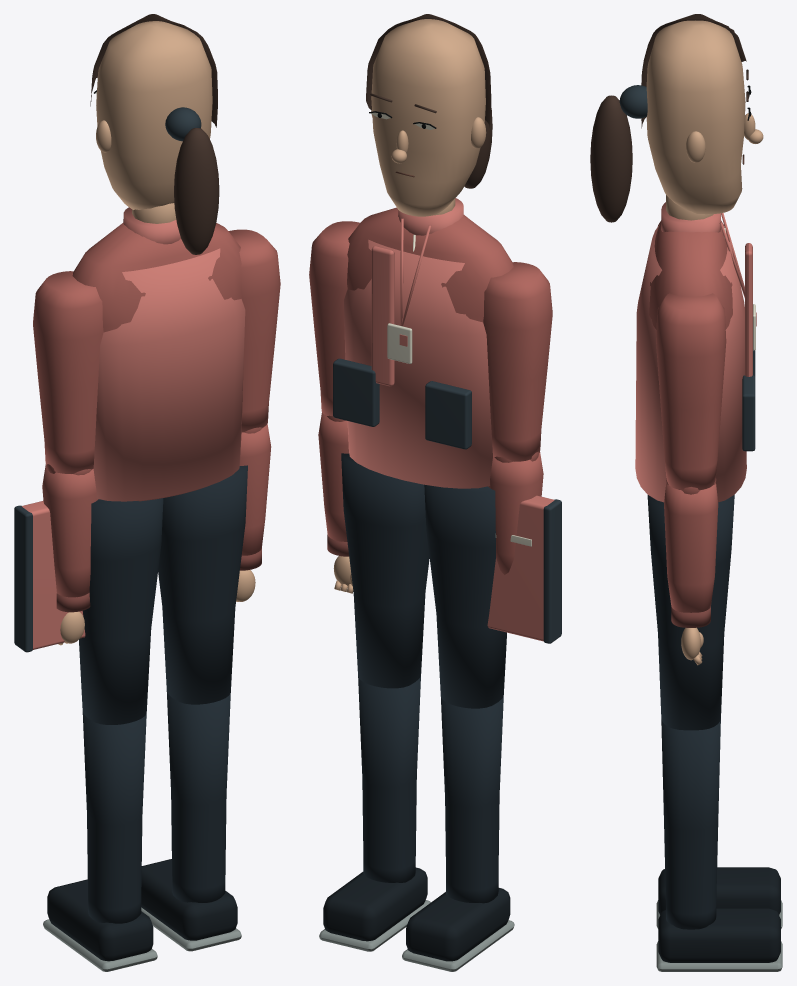
The model's file is npc_history.glb.
The picture shows the model from 3 angles, left to right: view 1: azimuth 30°, elevation 25°; view 2: azimuth 150°, elevation 25°; view 3: azimuth 270°, elevation 25°; orthographic projection.
Visible parts, largest first — view 1: IDPhoto, TrouserThigh.001, AdultFace, TrouserThigh, Sleeve, Knee.001, Knee, QuietClothTorso, Sleeve.001, Eyebrow, ElbowTransition, OrdinaryShoe (+9 smaller); view 2: IDPhoto, AdultFace, TrouserThigh.001, TrouserThigh, Sleeve, Knee.001, Knee, QuietClothTorso, UtilityPocket, BookCover, Sleeve.001, OrdinaryShoe.001 (+9 smaller); view 3: AdultFace, IDPhoto, Sleeve.001, Knee.001, TrouserThigh.001, ElbowTransition.001, OrdinaryShoe.001, QuietClothTorso, Eyebrow, OrdinaryShoe, ShoeSole.001, UtilityPocket (+4 smaller).
Part boxes in pixels (bbox=[...]): IDPhoto: bbox=[93, 207, 245, 501]; TrouserThigh.001: bbox=[158, 465, 247, 704]; AdultFace: bbox=[96, 21, 212, 209]; TrouserThigh: bbox=[79, 498, 163, 724]; Sleeve: bbox=[33, 271, 103, 473]; Knee.001: bbox=[166, 691, 230, 902]; Knee: bbox=[82, 712, 146, 923]; QuietClothTorso: bbox=[72, 223, 242, 501]; Sleeve.001: bbox=[228, 229, 280, 432]; Eyebrow: bbox=[90, 14, 219, 254]; ElbowTransition: bbox=[42, 464, 98, 597]; OrdinaryShoe: bbox=[47, 879, 153, 961]; IDPhoto: bbox=[344, 198, 492, 488]; AdultFace: bbox=[371, 19, 486, 216]; TrouserThigh.001: bbox=[341, 453, 429, 688]; TrouserThigh: bbox=[424, 484, 506, 708]; Sleeve: bbox=[483, 262, 552, 461]; Knee.001: bbox=[358, 676, 420, 882]; Knee: bbox=[441, 696, 503, 903]; QuietClothTorso: bbox=[347, 207, 513, 322]; UtilityPocket: bbox=[333, 358, 471, 449]; BookCover: bbox=[487, 495, 554, 641]; Sleeve.001: bbox=[309, 221, 359, 420]; OrdinaryShoe.001: bbox=[323, 867, 427, 941]; AdultFace: bbox=[646, 20, 763, 214]; IDPhoto: bbox=[635, 202, 756, 502]; Sleeve.001: bbox=[656, 293, 726, 489]; Knee.001: bbox=[661, 718, 720, 929]; TrouserThigh.001: bbox=[647, 495, 734, 730]; ElbowTransition.001: bbox=[664, 478, 718, 612]; OrdinaryShoe.001: bbox=[658, 908, 780, 962]; QuietClothTorso: bbox=[649, 222, 732, 329]; Eyebrow: bbox=[590, 14, 748, 222]; OrdinaryShoe: bbox=[658, 867, 780, 914]; ShoeSole.001: bbox=[656, 941, 782, 971]; UtilityPocket: bbox=[742, 350, 755, 451].
Size of the model in its own units: 0.434 by 1.54 by 0.29.
